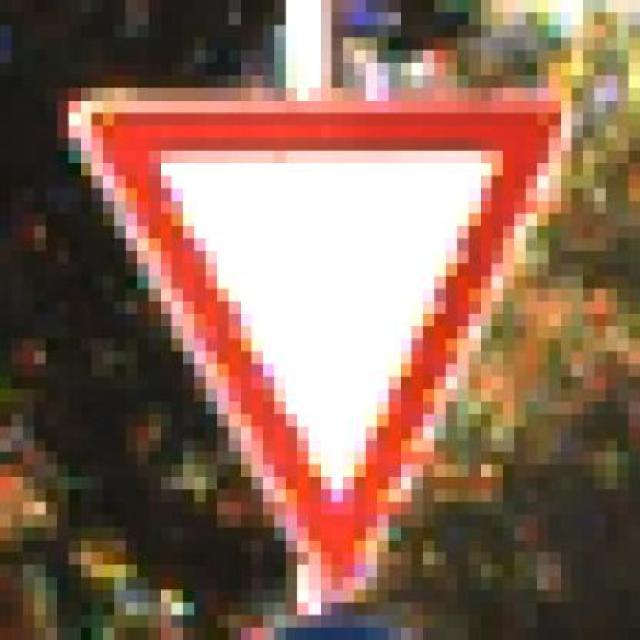Give Way: (45, 62, 606, 602)
